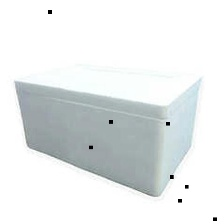foam_box: (7, 56, 205, 203)
